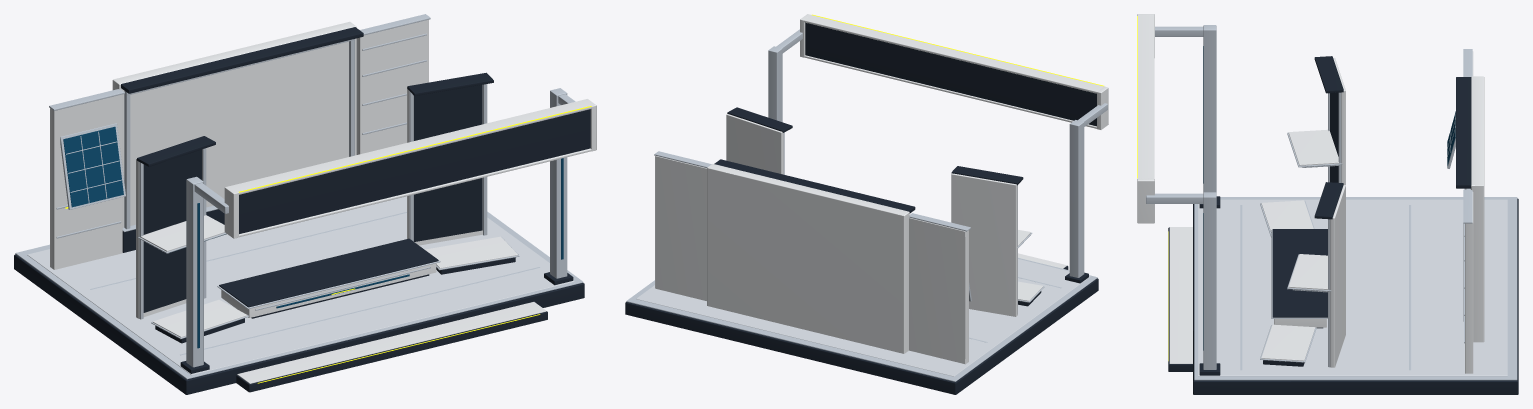
Rendered from solaris_energy_v3.glb.
3 renders of one model, left to right at view 1: azimuth 30°, elevation 25°; view 2: azimuth 150°, elevation 25°; view 3: azimuth 270°, elevation 25°, orthographic. The views are drawn at different scales.
Visible parts, largest first — view 1: Solaris_Energy_Booth_v3; view 2: Solaris_Energy_Booth_v3; view 3: Solaris_Energy_Booth_v3.
Boxes of the visible parts, box(x1,y1,x2,y2) form: Solaris_Energy_Booth_v3: box(14, 14, 596, 394); Solaris_Energy_Booth_v3: box(625, 14, 1108, 394); Solaris_Energy_Booth_v3: box(1137, 14, 1518, 394).
Bounding box in the file's own units: 7.2 × 3.78 × 6.33.
